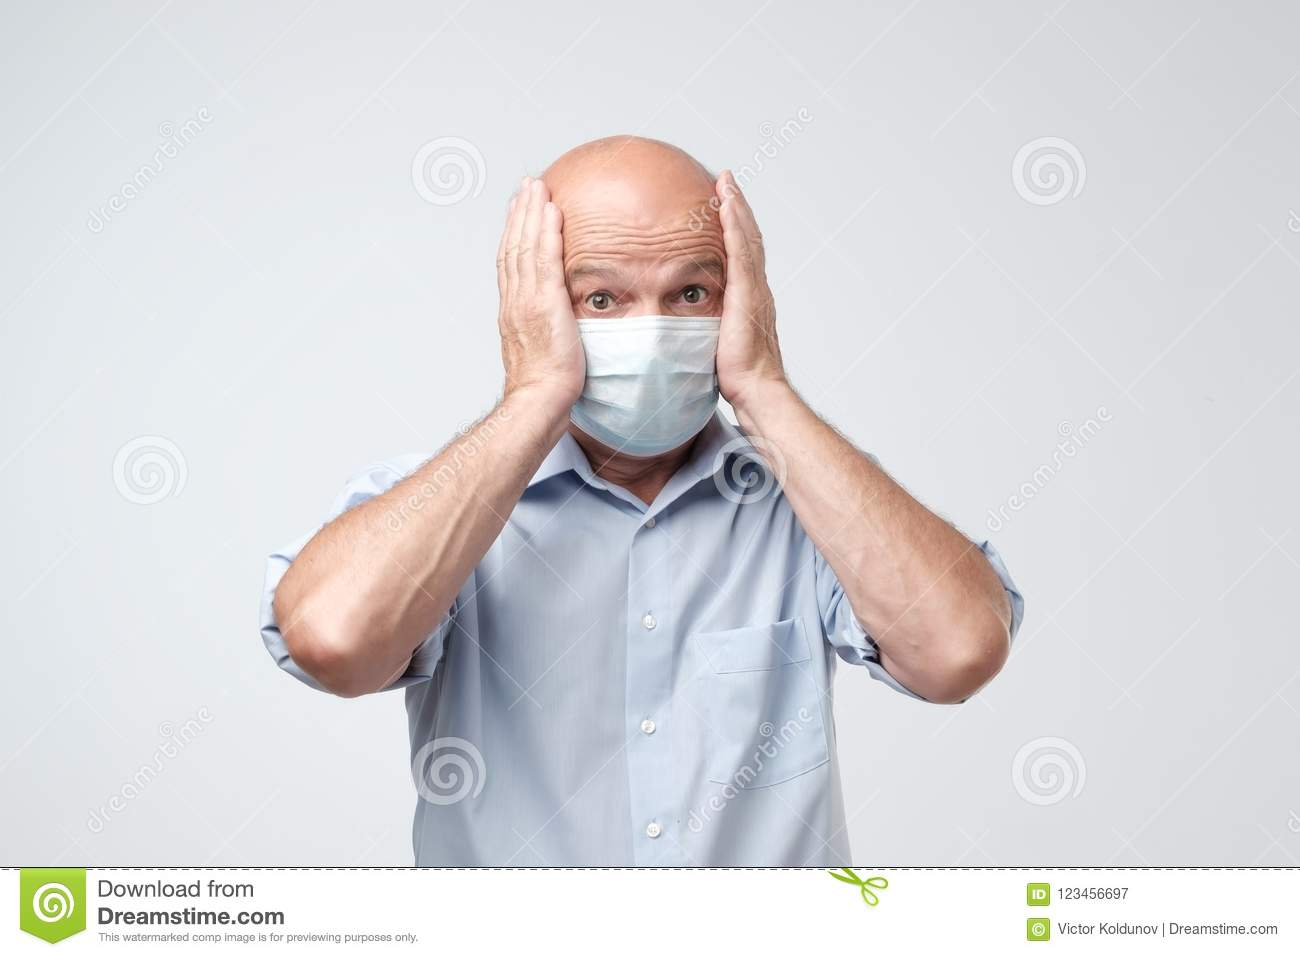mask: (570, 317, 722, 454)
